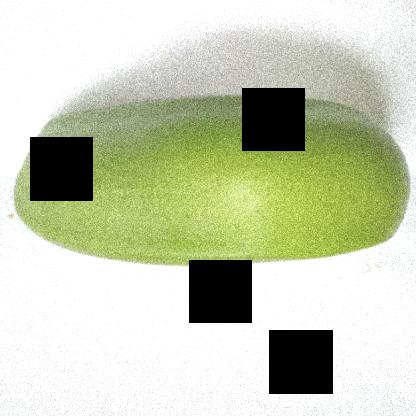freshunripe: (4, 84, 416, 277)
